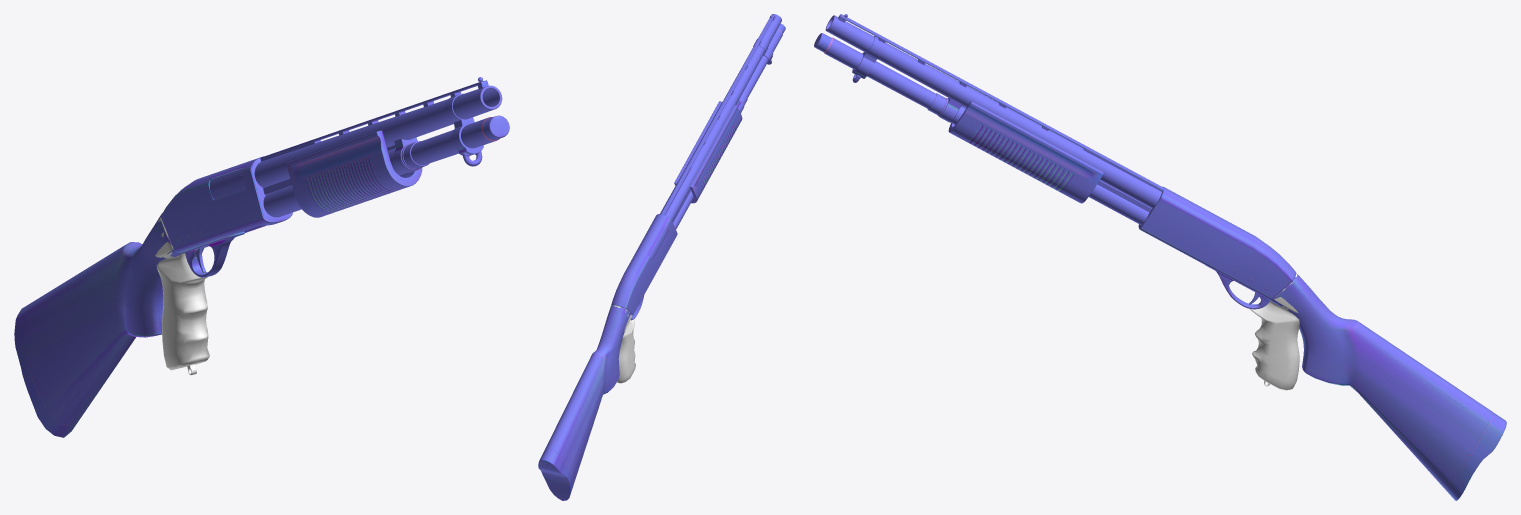
Rendered from mdlShotgunPickup Variant.fbx.
3 views of the same model, side by side, from view 1: azimuth 30°, elevation 25°; view 2: azimuth 150°, elevation 25°; view 3: azimuth 270°, elevation 25° (orthographic). The views are drawn at different scales.
Parts seen in each view (by area): view 1: 24_-Upgrades|Remington M1100 Grip.gripm_0.3_0_0, 24_-Upgrades|Remington M1100 Barrel.barrelm_0.3_0_0, 24_reciever_0.3_0_0.001, Model; view 2: 24_-Upgrades|Remington M1100 Grip.gripm_0.3_0_0, 24_-Upgrades|Remington M1100 Barrel.barrelm_0.3_0_0, 24_reciever_0.3_0_0.001, Model; view 3: 24_-Upgrades|Remington M1100 Barrel.barrelm_0.3_0_0, 24_-Upgrades|Remington M1100 Grip.gripm_0.3_0_0, 24_reciever_0.3_0_0.001, Model.
Boxes of the visible parts, x1,y1,x2,y2 form: 24_-Upgrades|Remington M1100 Grip.gripm_0.3_0_0: [14, 213, 185, 437]; 24_-Upgrades|Remington M1100 Barrel.barrelm_0.3_0_0: [254, 77, 509, 217]; 24_reciever_0.3_0_0.001: [160, 156, 292, 277]; Model: [155, 217, 209, 375]; 24_-Upgrades|Remington M1100 Grip.gripm_0.3_0_0: [538, 305, 632, 500]; 24_-Upgrades|Remington M1100 Barrel.barrelm_0.3_0_0: [660, 14, 785, 229]; 24_reciever_0.3_0_0.001: [611, 214, 677, 320]; Model: [614, 305, 635, 383]; 24_-Upgrades|Remington M1100 Barrel.barrelm_0.3_0_0: [814, 14, 1163, 224]; 24_-Upgrades|Remington M1100 Grip.gripm_0.3_0_0: [1270, 274, 1506, 500]; 24_reciever_0.3_0_0.001: [1138, 186, 1296, 309]; Model: [1249, 272, 1299, 390].
Bounding box in the file's own units: 8.97 × 108 × 139.
